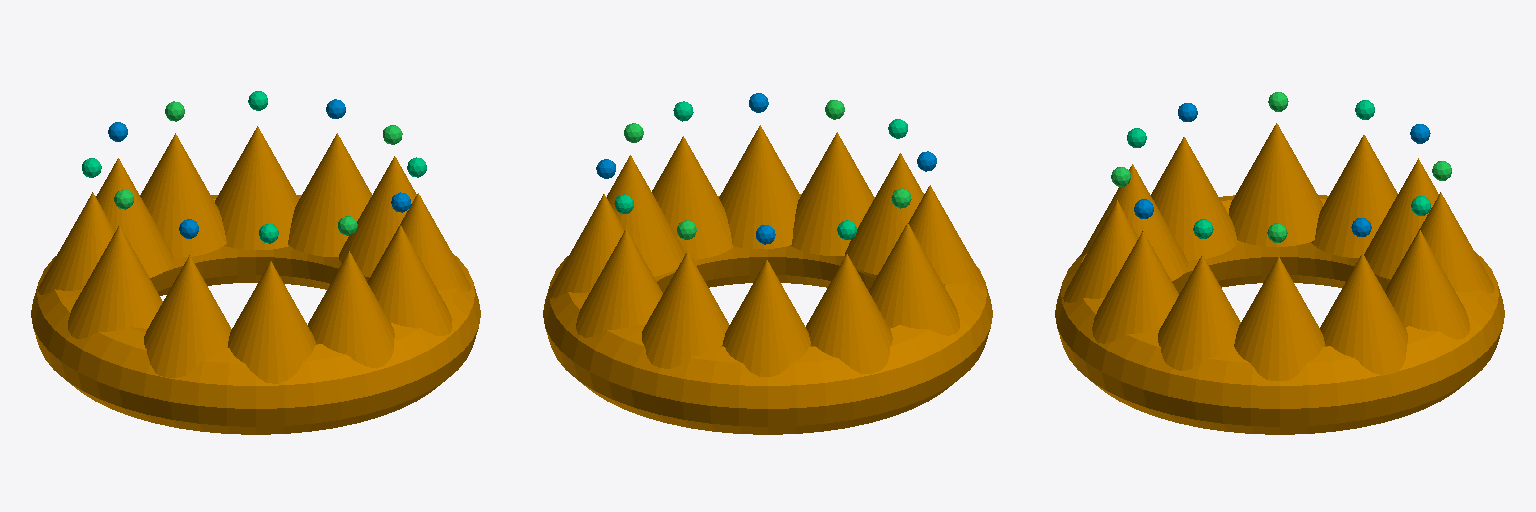
File: seven_stages.obj
3 renders of one model, left to right at view 1: azimuth 30°, elevation 25°; view 2: azimuth 150°, elevation 25°; view 3: azimuth 270°, elevation 25°, orthographic.
Parts seen in each view (by area): view 1: Torus, Cone.011, Cone.007, Cone.010, Cone.004, Cone.002, Cone, Cone.006, Cone.003, Cone.005, Cone.008, Cone.001 (+1 smaller); view 2: Torus, Cone.003, Cone.008, Cone.001, Cone, Cone.002, Cone.004, Cone.009, Cone.007, Cone.005, Cone.010, Cone.011 (+1 smaller); view 3: Torus, Cone.004, Cone.005, Cone.006, Cone.009, Cone.011, Cone.008, Cone.003, Cone.007, Cone.001, Cone.002, Cone (+1 smaller).
Boxes of the visible parts, x1,y1,x2,y2 form: Torus: [31, 195, 480, 434]; Cone.011: [144, 255, 231, 378]; Cone.007: [215, 126, 298, 249]; Cone.010: [228, 261, 315, 383]; Cone.004: [68, 225, 162, 338]; Cone.002: [308, 251, 394, 368]; Cone: [140, 133, 226, 257]; Cone.006: [288, 133, 371, 256]; Cone.003: [368, 225, 452, 335]; Cone.005: [339, 156, 416, 277]; Cone.008: [38, 192, 114, 294]; Cone.001: [96, 158, 173, 277]; Torus: [543, 194, 992, 434]; Cone.003: [719, 125, 800, 248]; Cone.008: [806, 254, 892, 374]; Cone.001: [722, 260, 810, 376]; Cone: [642, 251, 728, 368]; Cone.002: [790, 132, 874, 255]; Cone.004: [869, 223, 959, 335]; Cone.009: [652, 136, 733, 259]; Cone.007: [576, 229, 662, 337]; Cone.005: [607, 155, 685, 276]; Cone.010: [845, 153, 923, 274]; Cone.011: [908, 185, 985, 287]; Torus: [1055, 195, 1504, 434]; Cone.004: [1229, 123, 1322, 246]; Cone.005: [1234, 257, 1324, 380]; Cone.006: [1320, 253, 1407, 375]; Cone.009: [1158, 255, 1240, 370]; Cone.011: [1151, 137, 1238, 260]; Cone.008: [1311, 135, 1397, 257]; Cone.003: [1092, 231, 1178, 343]; Cone.007: [1385, 230, 1469, 339]; Cone.001: [1364, 158, 1438, 279]; Cone.002: [1063, 200, 1138, 302]; Cone: [1386, 192, 1494, 292].
Size of the model in its own units: 8.07 by 3.91 by 8.07.